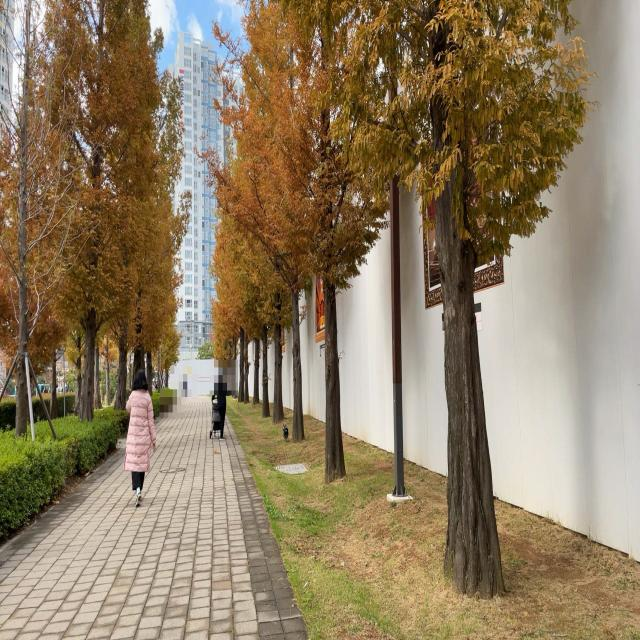Leashed_Dog: (222, 390, 290, 444)
